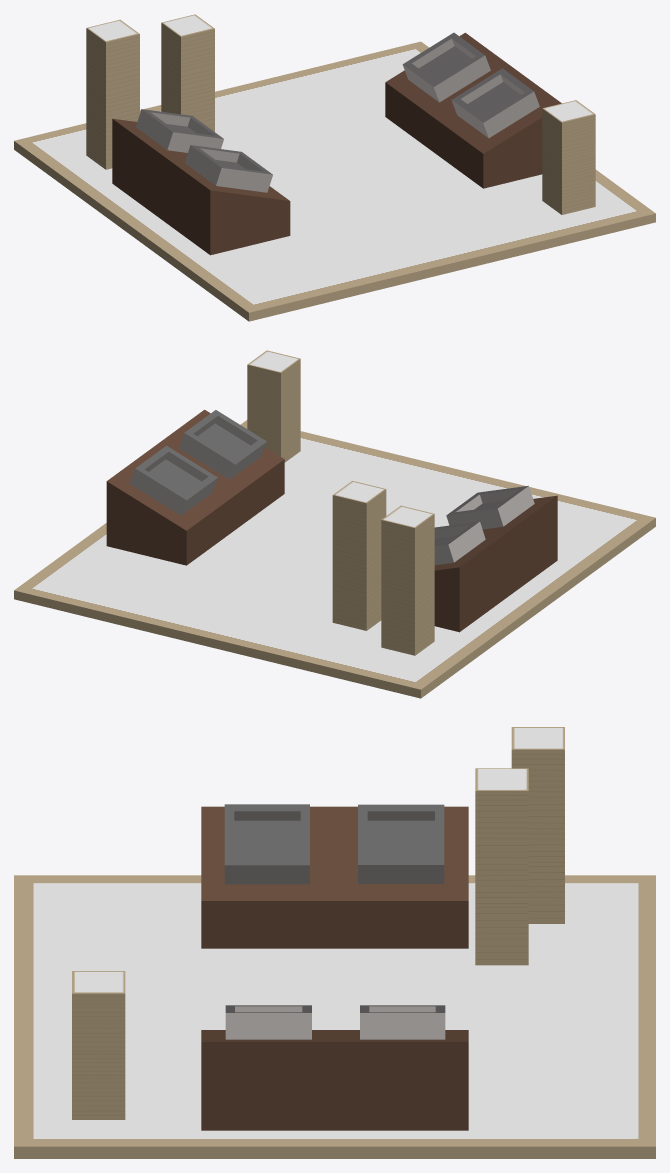
The model's file is building_chisler.fbx.
3 renders of one model, top to bottom at view 1: azimuth 30°, elevation 25°; view 2: azimuth 150°, elevation 25°; view 3: azimuth 270°, elevation 25°, orthographic. The views are drawn at different scales.
Visible parts, largest first — view 1: Tile_Stack3; view 2: Tile_Stack3; view 3: Tile_Stack3.
Part boxes in pixels (left/top/right/bottom): Tile_Stack3: left=14, top=14, right=655, bottom=321; Tile_Stack3: left=14, top=350, right=655, bottom=698; Tile_Stack3: left=14, top=727, right=655, bottom=1158.
Bounding box in the file's own units: 12 × 3.85 × 12.
3 materials, 3 textured.
